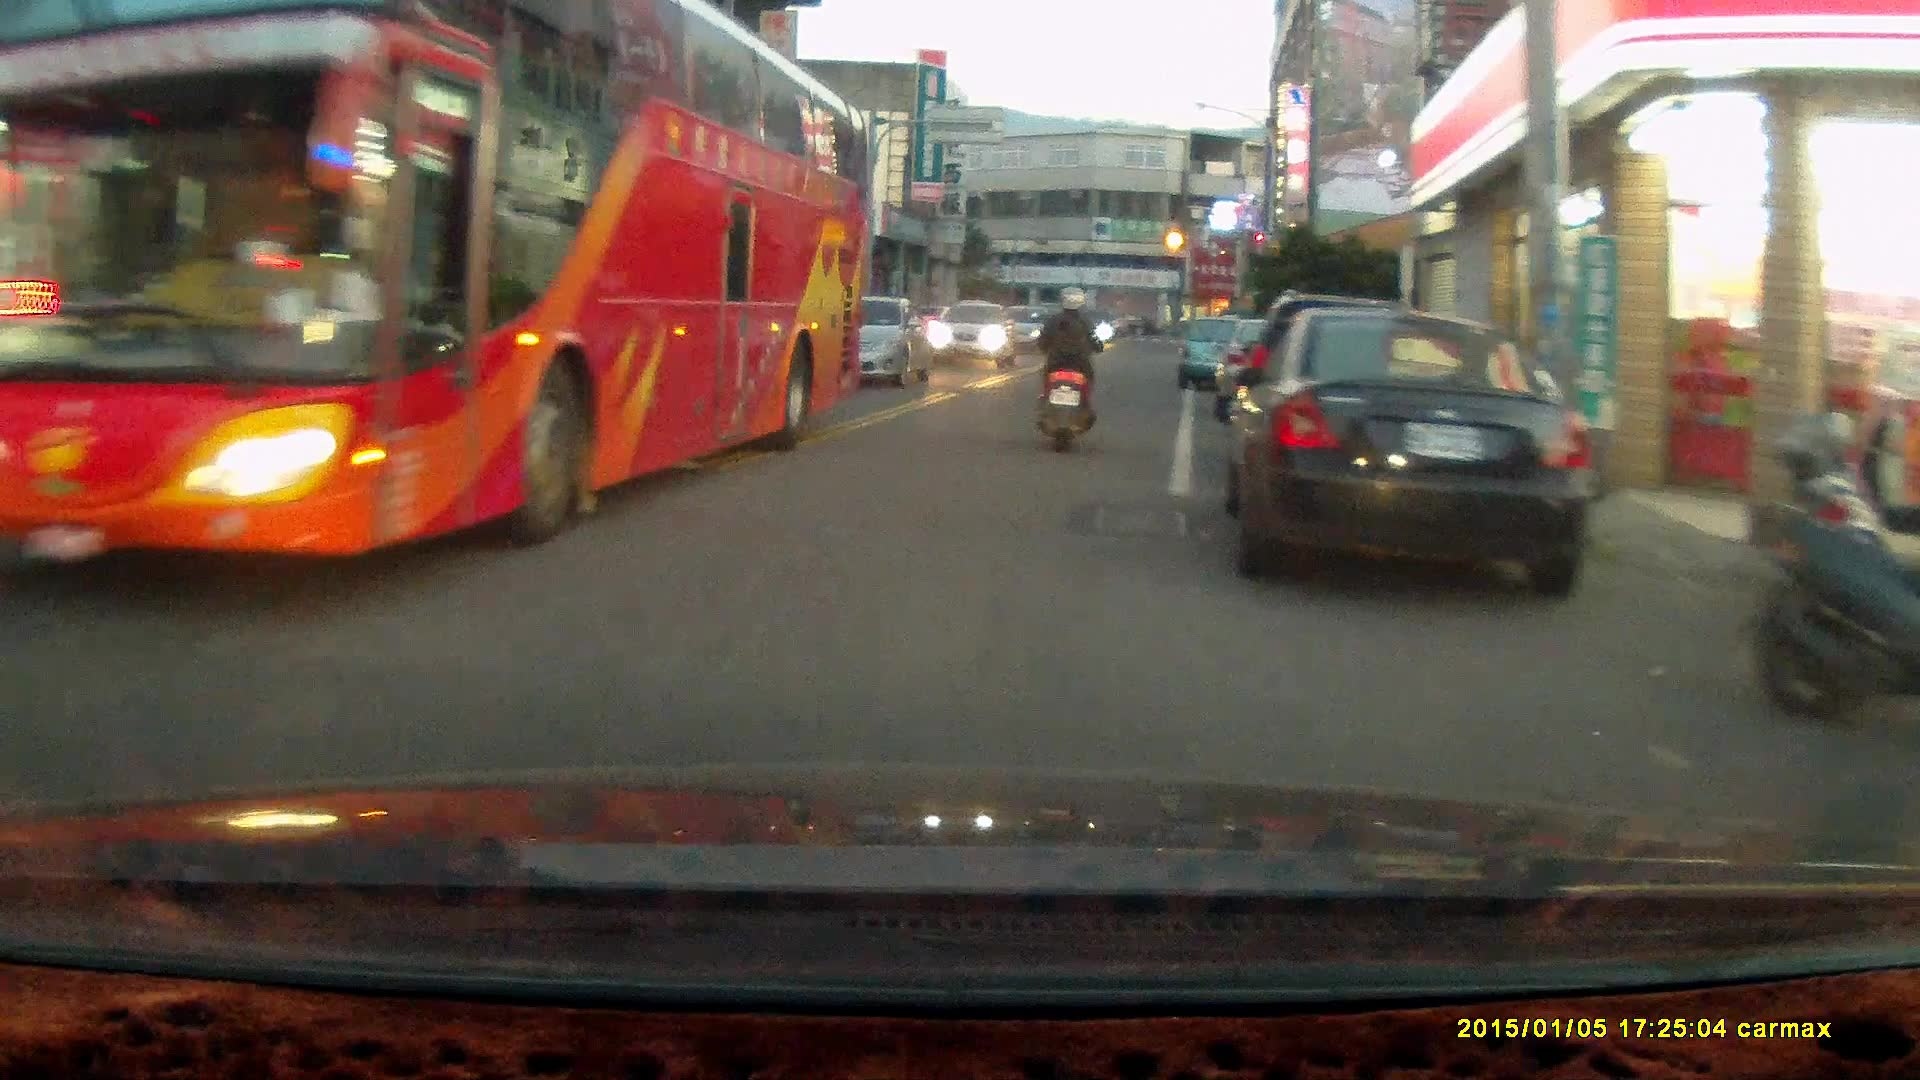rider: (1030, 282, 1104, 453)
vehicle: (10, 17, 871, 569), (1213, 303, 1595, 596), (809, 293, 927, 389), (1179, 316, 1260, 389), (927, 299, 1014, 366)
